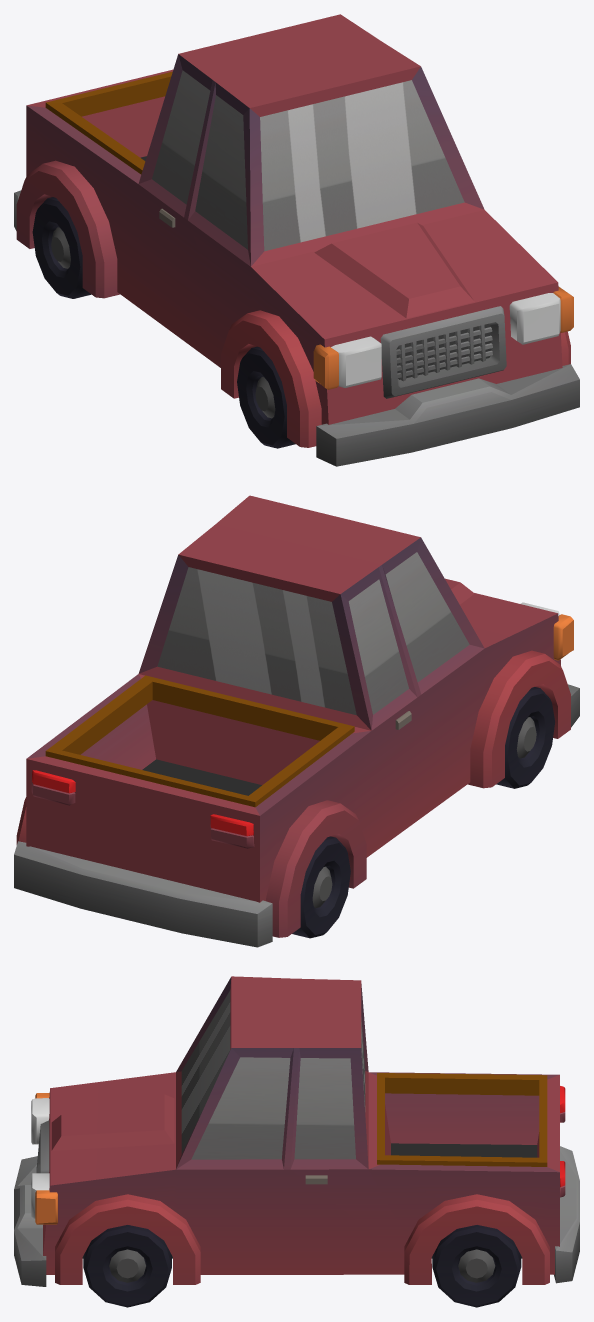
Rendered from PickUp_12.glb.
3 views of the same model, one above another, from view 1: azimuth 30°, elevation 25°; view 2: azimuth 150°, elevation 25°; view 3: azimuth 270°, elevation 25° (orthographic). The views are drawn at different scales.
Visible parts, largest first — view 1: PickUp_12, BWhel_BR, BWhel_FR; view 2: PickUp_12, BWhel_BR, BWhel_FR; view 3: PickUp_12, BWhel_BL, BWhel_FL.
Part boxes in pixels (x1,y1,x2,y2): PickUp_12: (14,14,579,466); BWhel_BR: (32,197,91,298); BWhel_FR: (237,346,295,448); PickUp_12: (14,495,579,947); BWhel_BR: (292,836,350,938); BWhel_FR: (496,687,554,788); PickUp_12: (14,976,579,1286); BWhel_BL: (432,1225,521,1307); BWhel_FL: (83,1225,171,1307).
Bounding box in the file's own units: 1.09 × 1.08 × 2.3.
Materials: 6 (6 with a texture image).
